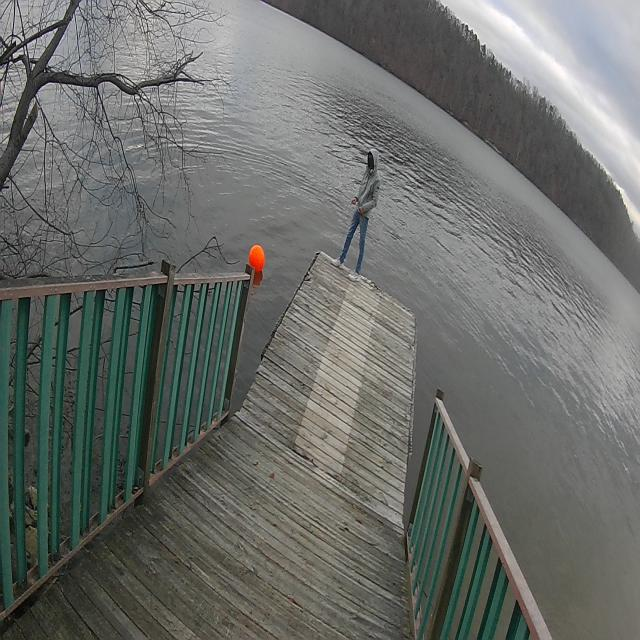Buoy: (248, 242, 268, 277)
